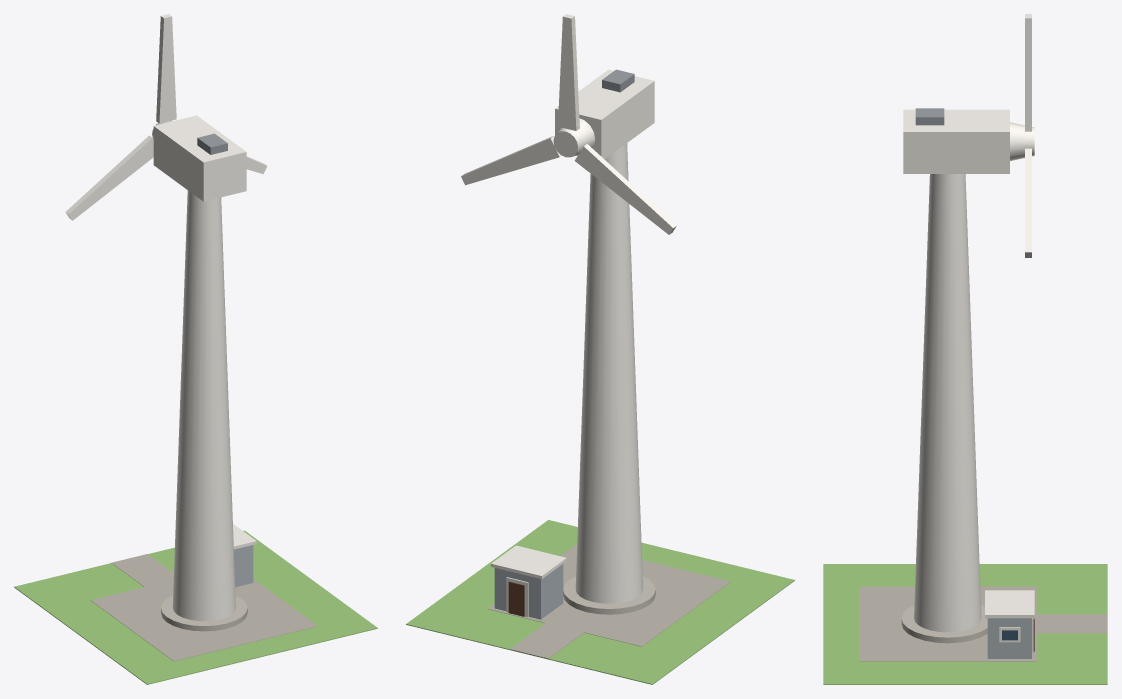
File: wind.glb
3 views of the same model, side by side, from view 1: azimuth 30°, elevation 25°; view 2: azimuth 150°, elevation 25°; view 3: azimuth 270°, elevation 25° (orthographic). The views are drawn at different scales.
Parts seen in each view (by area): view 1: tower, lawn, gravel_pad, nacelle, blade (×2), foundation, gravel_path, control_hut; view 2: tower, lawn, gravel_pad, blade (×3), nacelle, control_hut, hut_roof, foundation, gravel_path, hub; view 3: tower, lawn, nacelle, gravel_pad, blade (×2), control_hut, hut_roof, gravel_path, foundation, hub, nacelle_vent.
Boxes of the visible parts, left/top/right/bottom form: tower: left=172, top=190, right=235, bottom=621; lawn: left=14, top=530, right=377, bottom=684; gravel_pad: left=91, top=579, right=317, bottom=661; nacelle: left=153, top=115, right=246, bottom=201; blade (×2): left=65, top=14, right=176, bottom=220; foundation: left=161, top=595, right=247, bottom=631; gravel_path: left=111, top=554, right=173, bottom=586; control_hut: left=234, top=545, right=253, bottom=587; tower: left=575, top=143, right=643, bottom=603; lawn: left=406, top=520, right=794, bottom=684; gravel_pad: left=488, top=544, right=730, bottom=646; blade (×3): left=461, top=14, right=676, bottom=234; nacelle: left=555, top=69, right=654, bottom=159; control_hut: left=494, top=564, right=563, bottom=619; hut_roof: left=491, top=545, right=566, bottom=579; foundation: left=563, top=576, right=655, bottom=614; gravel_path: left=510, top=623, right=583, bottom=658; hub: left=553, top=118, right=594, bottom=157; tower: left=914, top=174, right=981, bottom=632; lawn: left=823, top=564, right=1107, bottom=684; nacelle: left=903, top=109, right=1009, bottom=173; gravel_pad: left=859, top=586, right=1036, bottom=661; blade (×2): left=1025, top=14, right=1031, bottom=257; control_hut: left=987, top=618, right=1031, bottom=658; hut_roof: left=985, top=590, right=1034, bottom=618; gravel_path: left=1036, top=614, right=1107, bottom=633; foundation: left=901, top=605, right=987, bottom=643; hub: left=1010, top=122, right=1034, bottom=160; nacelle_vent: left=915, top=108, right=944, bottom=125.
Bounding box in the file's own units: 16 × 37.8 × 16.
